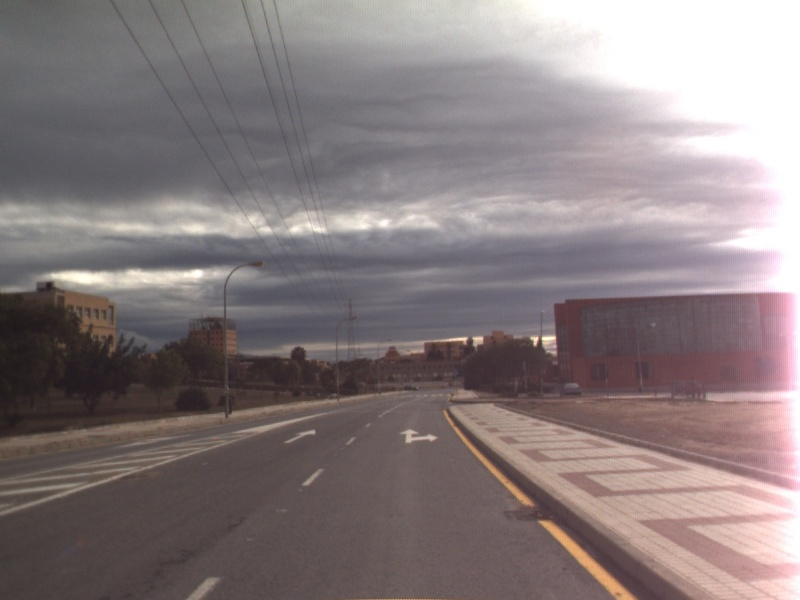STRAIGHT: (281, 427, 318, 445)
STRAIGHT_RIGHT: (397, 427, 441, 445)
